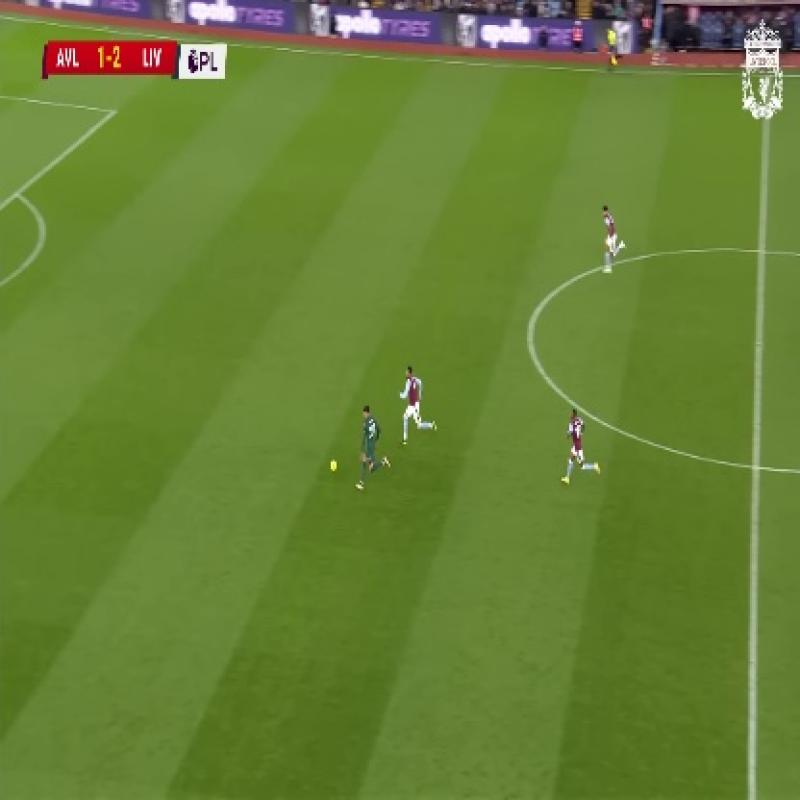10: (6, 179, 25, 204)
14: (748, 233, 775, 268)
15: (738, 442, 772, 486)
9: (102, 96, 123, 125)
c: (510, 302, 550, 353)
